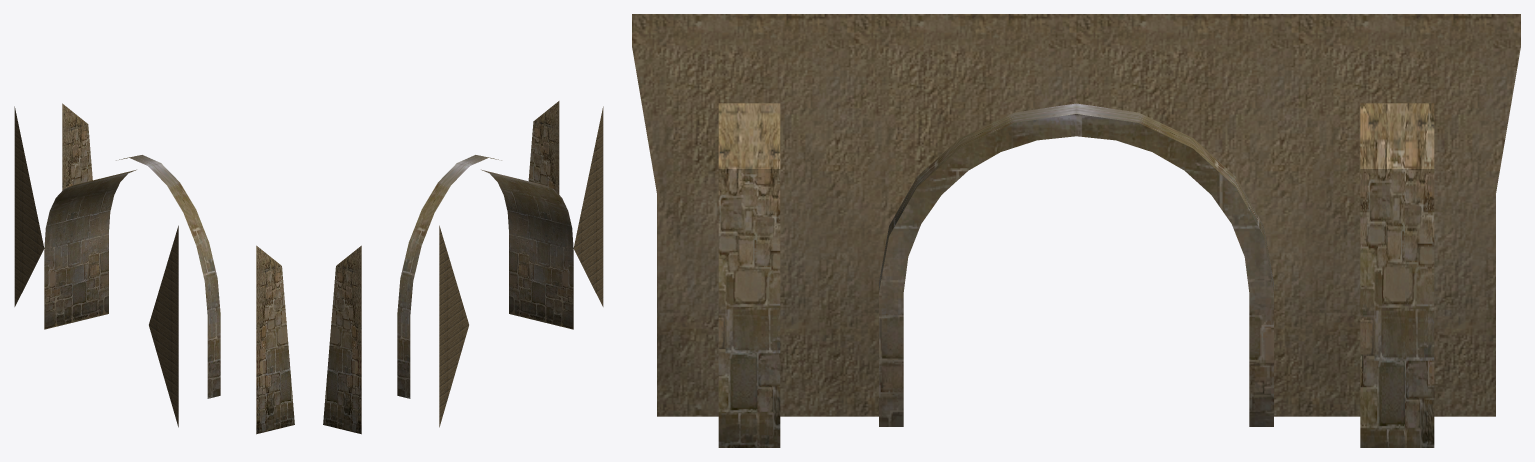
The model's file is M7_CourtYard_B.glb.
3 views of the same model, side by side, from view 1: azimuth 30°, elevation 25°; view 2: azimuth 150°, elevation 25°; view 3: azimuth 270°, elevation 25° (orthographic). The views are drawn at different scales.
Parts seen in each view (by area): view 1: M7_COURTYARD_B; view 2: M7_COURTYARD_B; view 3: M7_COURTYARD_B.
Part boxes in pixels (bbox=[...]): M7_COURTYARD_B: bbox=[14, 103, 294, 434]; M7_COURTYARD_B: bbox=[323, 101, 603, 434]; M7_COURTYARD_B: bbox=[632, 14, 1520, 447].
Bounding box in the file's own units: 3.5 × 9 × 18.
4 materials, 4 textured.
